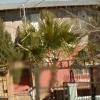Tree: (10, 15, 100, 63)
